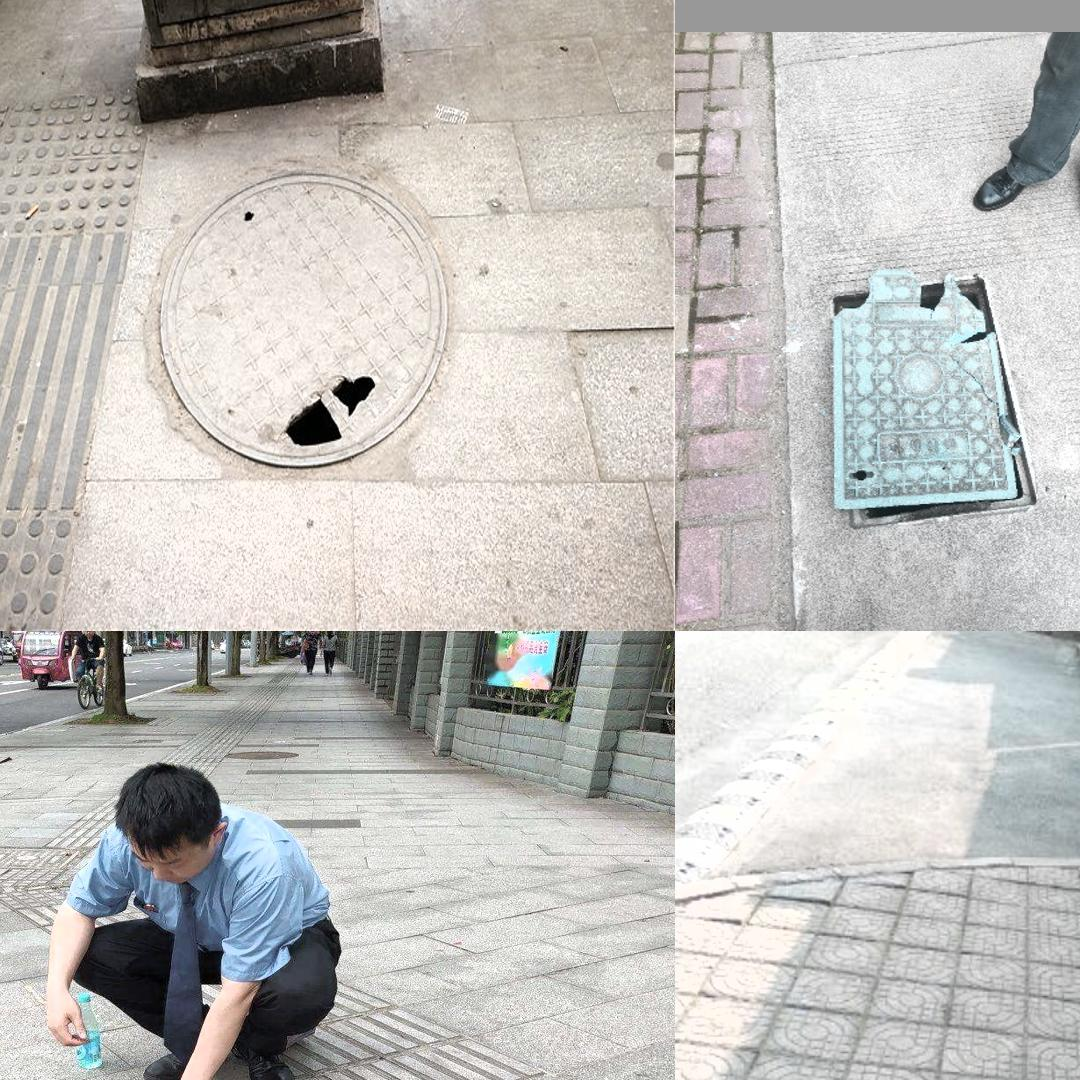broke: (160, 170, 448, 471), (831, 268, 1036, 535)
